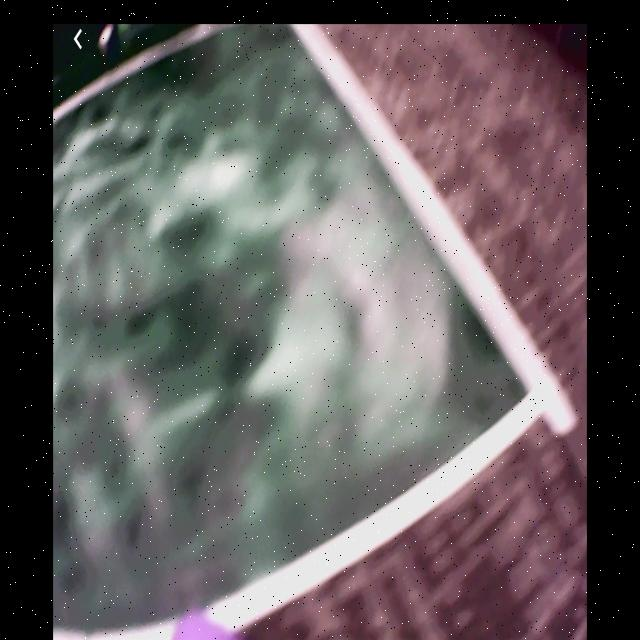ball: (173, 608, 236, 640)
